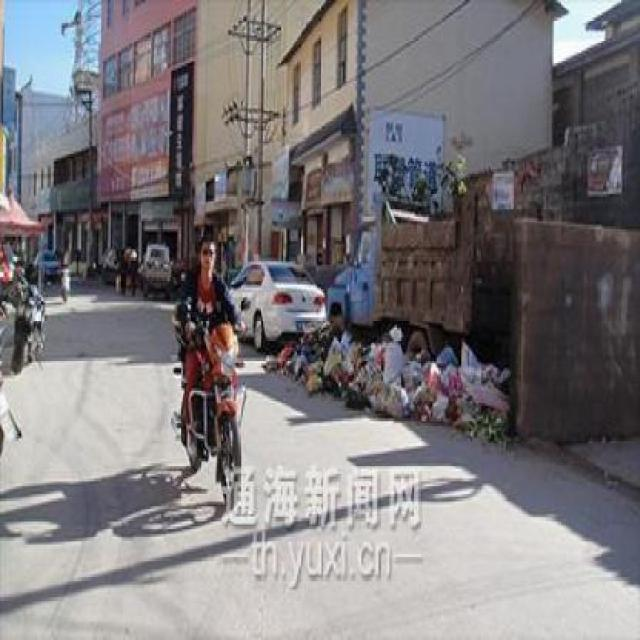garbage: (276, 328, 512, 419)
